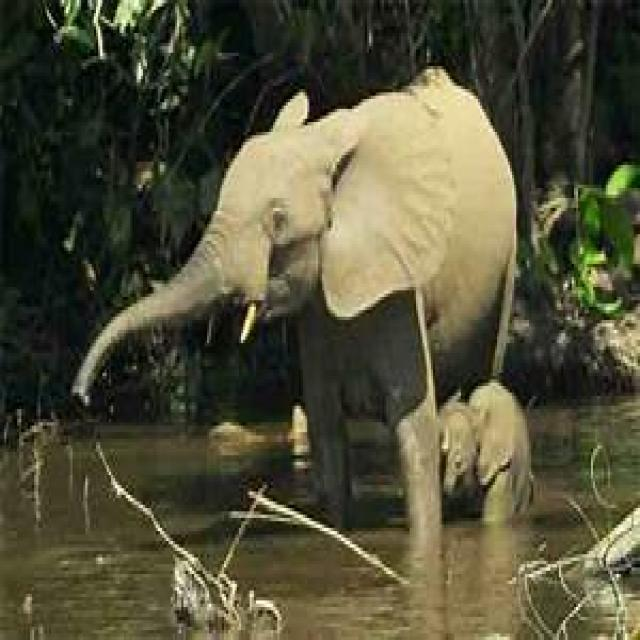elephant: (70, 66, 518, 544)
